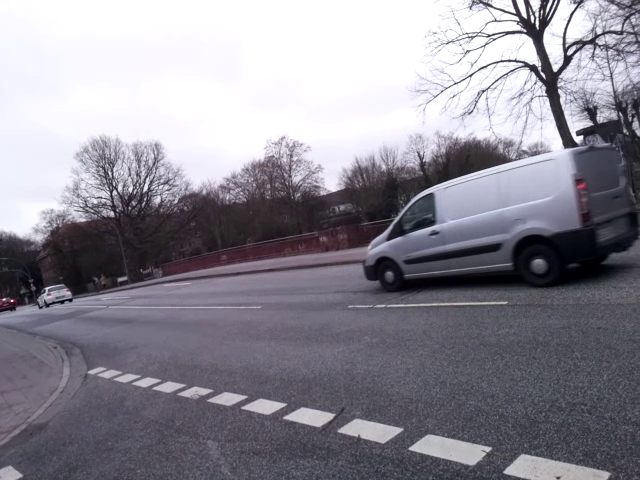car: (330, 148, 637, 289)
